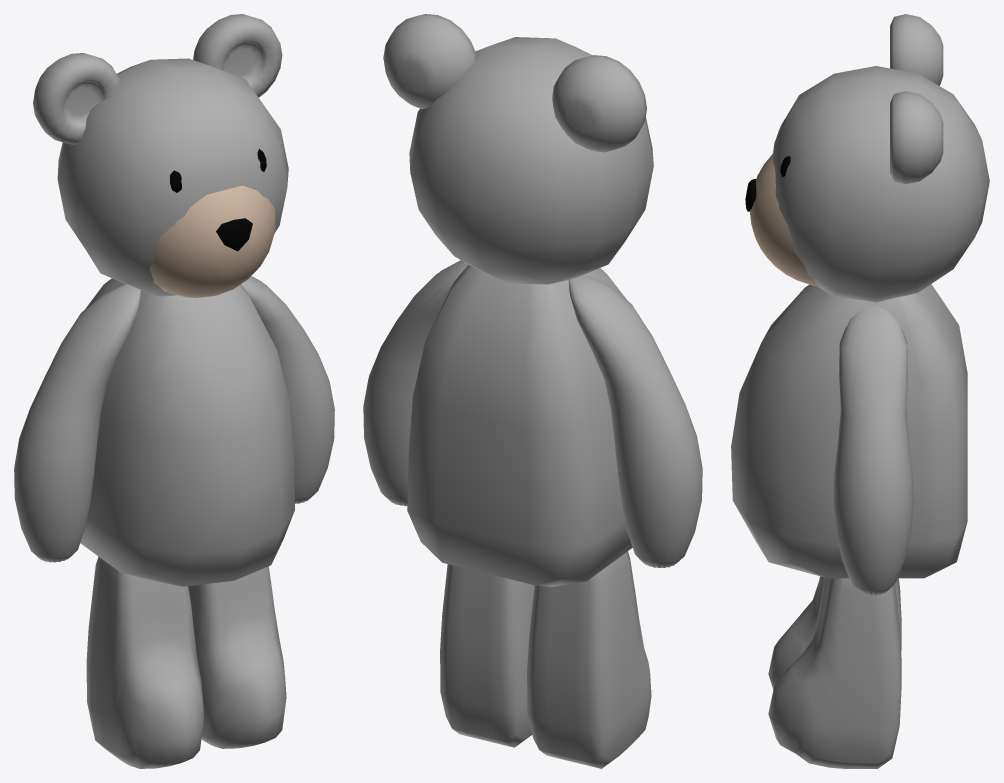
The model's file is MF_TeddyBear.fbx.
3 views of the same model, side by side, from view 1: azimuth 30°, elevation 25°; view 2: azimuth 150°, elevation 25°; view 3: azimuth 270°, elevation 25° (orthographic). The views are drawn at different scales.
Visible parts, largest first — view 1: polySurface8, polySurface1, polySurface12, polySurface10, polySurface11, polySurface5, polySurface9, polySurface4, polySurface3, polySurface2; view 2: polySurface8, polySurface1, polySurface12, polySurface10, polySurface11, polySurface9, polySurface4, polySurface3; view 3: polySurface8, polySurface1, polySurface9, polySurface11, polySurface3, polySurface5, polySurface4, polySurface12.
Boxes of the visible parts, bbox=[...] form: polySurface8: bbox=[80, 278, 294, 586]; polySurface1: bbox=[57, 58, 288, 296]; polySurface12: bbox=[86, 556, 204, 768]; polySurface10: bbox=[14, 284, 140, 562]; polySurface11: bbox=[188, 566, 286, 748]; polySurface5: bbox=[150, 185, 275, 298]; polySurface9: bbox=[241, 276, 334, 503]; polySurface4: bbox=[33, 53, 121, 144]; polySurface3: bbox=[193, 14, 282, 97]; polySurface2: bbox=[216, 218, 252, 251]; polySurface8: bbox=[407, 265, 639, 586]; polySurface1: bbox=[409, 37, 653, 284]; polySurface12: bbox=[527, 551, 651, 768]; polySurface10: bbox=[568, 274, 702, 567]; polySurface11: bbox=[440, 564, 534, 747]; polySurface9: bbox=[363, 260, 468, 506]; polySurface4: bbox=[552, 55, 646, 152]; polySurface3: bbox=[383, 14, 476, 109]; polySurface8: bbox=[731, 284, 967, 578]; polySurface1: bbox=[772, 66, 989, 302]; polySurface9: bbox=[833, 305, 913, 595]; polySurface11: bbox=[768, 577, 901, 768]; polySurface3: bbox=[890, 91, 943, 184]; polySurface5: bbox=[750, 154, 817, 285]; polySurface4: bbox=[890, 14, 943, 85]; polySurface12: bbox=[768, 576, 901, 689].
Size of the model in its own units: 4.14 by 8.76 by 3.02.
